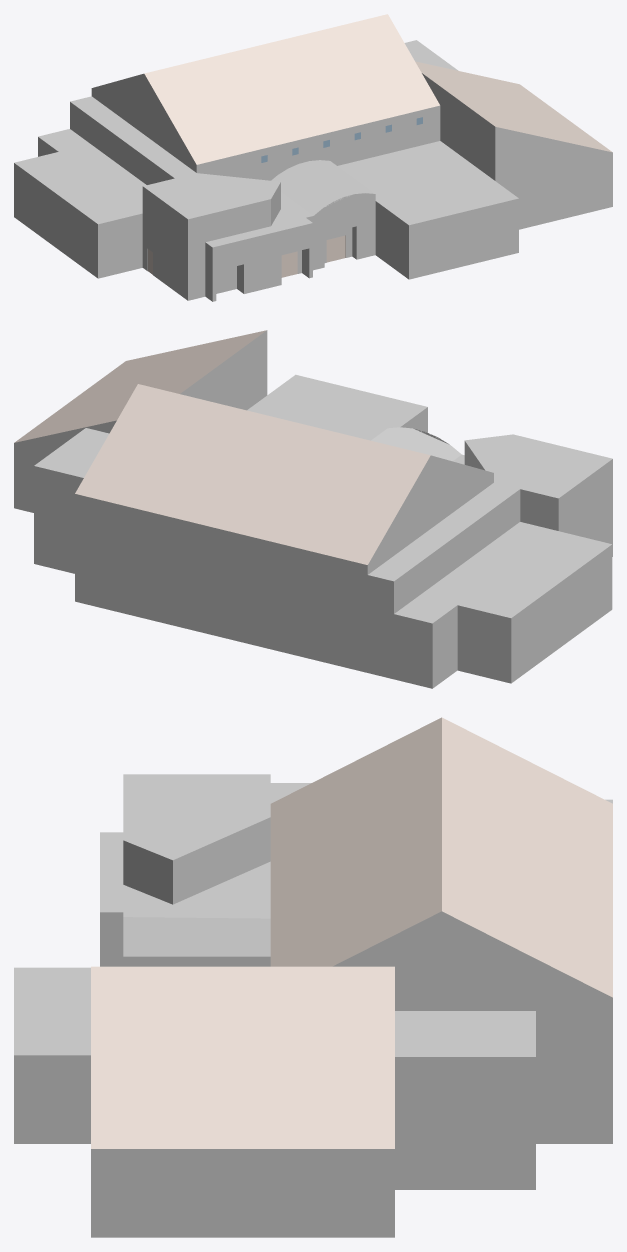
The model's file is occ-1.glb.
The picture shows the model from 3 angles, top to bottom: view 1: azimuth 30°, elevation 25°; view 2: azimuth 150°, elevation 25°; view 3: azimuth 270°, elevation 25°; orthographic projection. The views are drawn at different scales.
Parts seen in each view (by area): view 1: ID2; view 2: ID2; view 3: ID2.
Part boxes in pixels (<box>): ID2: <box>14,14,612,301</box>; ID2: <box>14,330,612,688</box>; ID2: <box>14,717,612,1237</box>.
Bounding box in the file's own units: 35.96 × 10.67 × 24.88.
